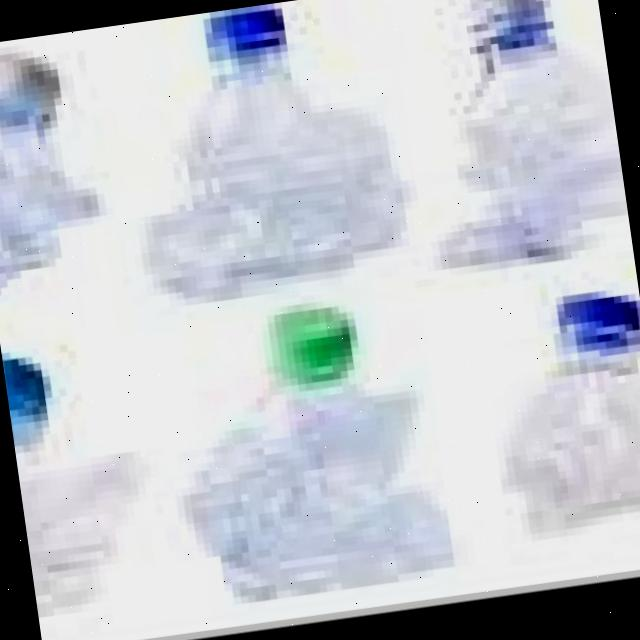trash: (152, 269, 488, 625), (106, 0, 426, 321), (392, 0, 635, 291), (455, 263, 640, 554), (0, 323, 173, 632), (0, 29, 130, 312)
